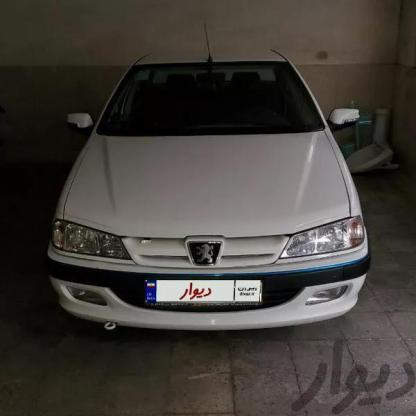Car: (45, 47, 372, 340)
